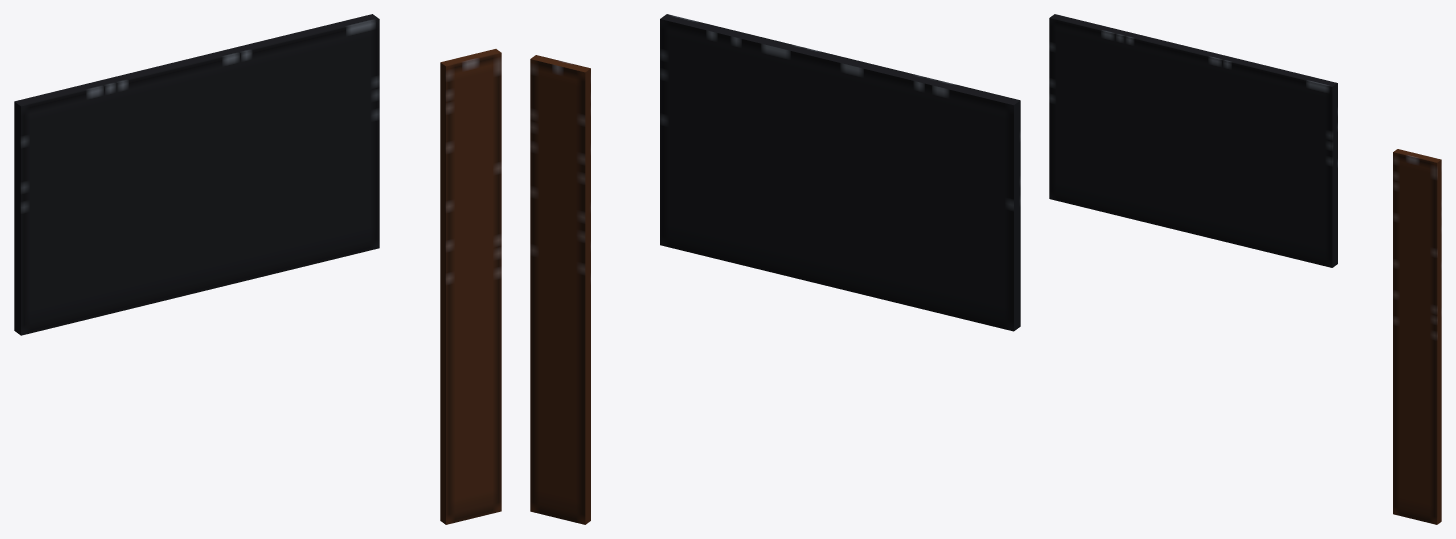
The model's file is RimRib.obj.
3 renders of one model, left to right at view 1: azimuth 30°, elevation 25°; view 2: azimuth 150°, elevation 25°; view 3: azimuth 330°, elevation 25°, orthographic. The views are drawn at different scales.
Visible parts, largest first — view 1: RimRib; view 2: RimRib; view 3: RimRib.
Part boxes in pixels (left/top/right/bottom): RimRib: left=14, top=14, right=501, bottom=524; RimRib: left=530, top=14, right=1020, bottom=524; RimRib: left=1049, top=14, right=1441, bottom=524.
Bounding box in the file's own units: 2.44 × 2.53 × 0.095.
1 material, 1 textured.
